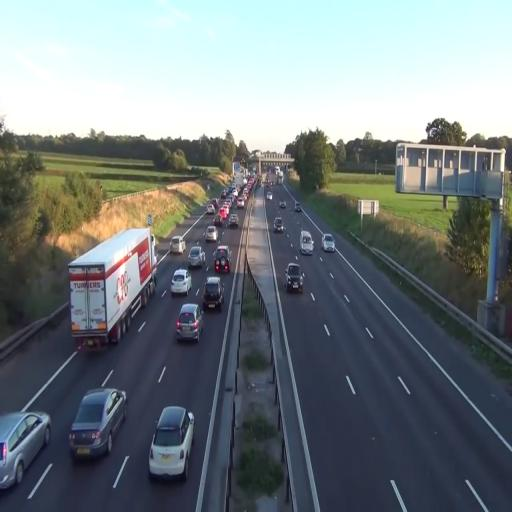vehicle: (68, 227, 157, 350), (68, 386, 128, 460), (0, 408, 52, 492), (149, 406, 195, 480), (174, 303, 202, 343), (201, 276, 223, 311), (171, 268, 192, 296), (285, 263, 304, 292), (187, 243, 206, 270), (214, 246, 230, 274), (299, 231, 314, 255), (204, 226, 218, 244), (322, 233, 335, 252), (274, 216, 284, 233)
